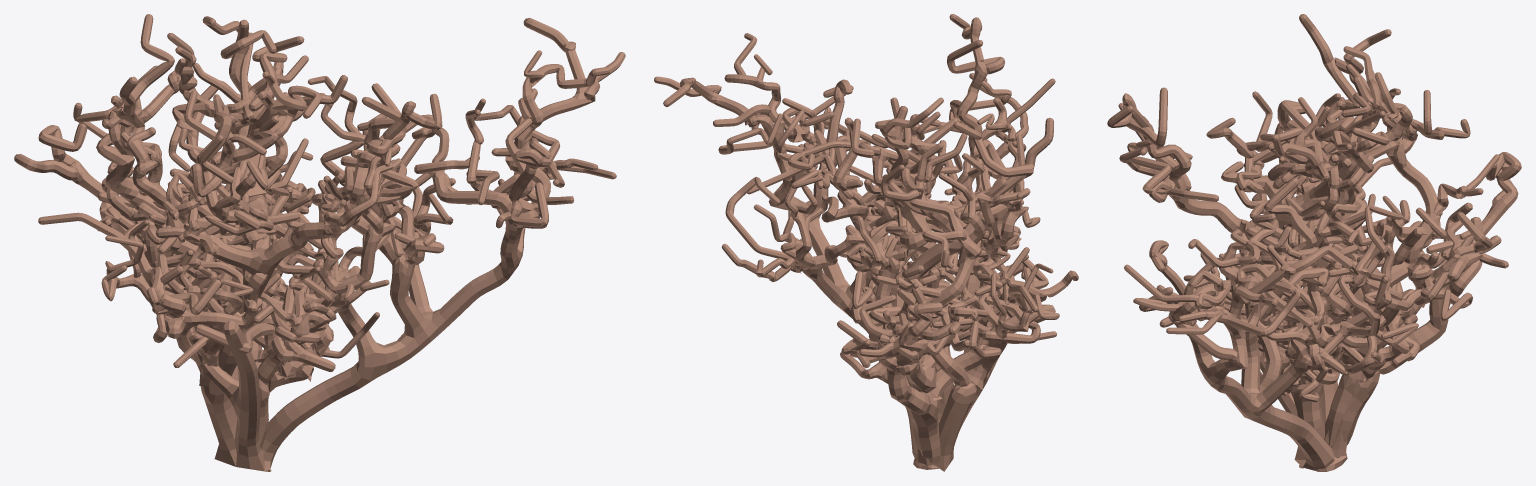
The picture shows the model from 3 angles, left to right: view 1: azimuth 30°, elevation 25°; view 2: azimuth 150°, elevation 25°; view 3: azimuth 270°, elevation 25°; orthographic projection. The views are drawn at different scales.
Parts seen in each view (by area): view 1: Arbusto; view 2: Arbusto; view 3: Arbusto.
Boxes of the visible parts, bbox=[...] form: Arbusto: bbox=[14, 14, 625, 471]; Arbusto: bbox=[654, 14, 1078, 471]; Arbusto: bbox=[1107, 14, 1521, 471].
Size of the model in its own units: 1.74 by 1.43 by 1.32.
